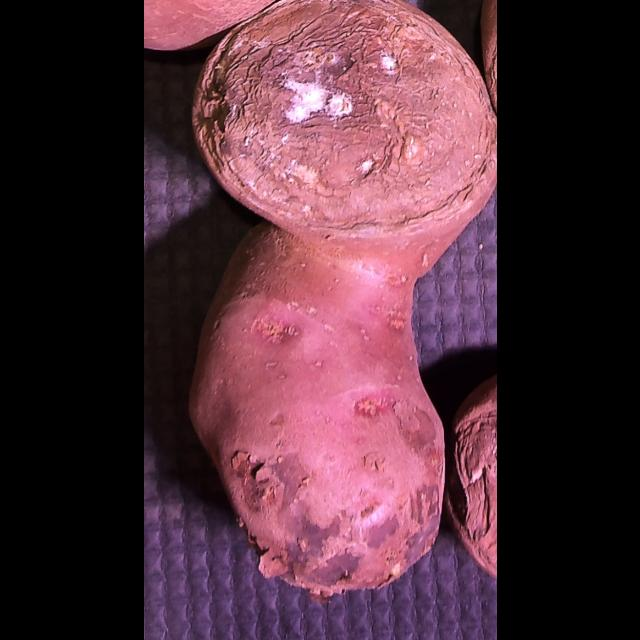Damaged potato: (164, 1, 496, 602)
